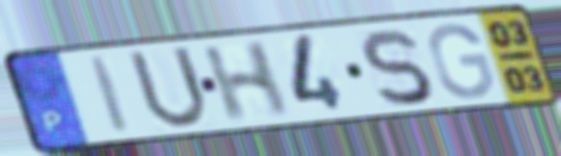4: (288, 31, 354, 118)
G: (425, 20, 498, 102)
H: (199, 37, 294, 126)
I: (85, 52, 136, 136)
S: (357, 26, 436, 110)
U: (123, 43, 212, 133)
